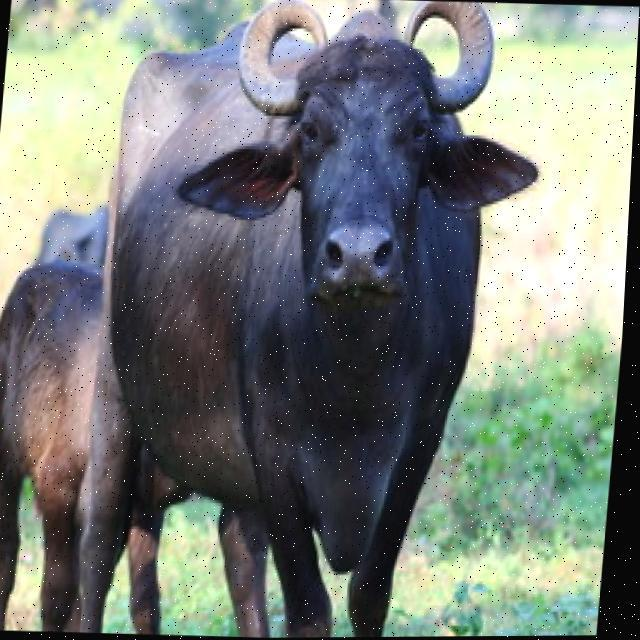Buffalo: (67, 0, 552, 639)
